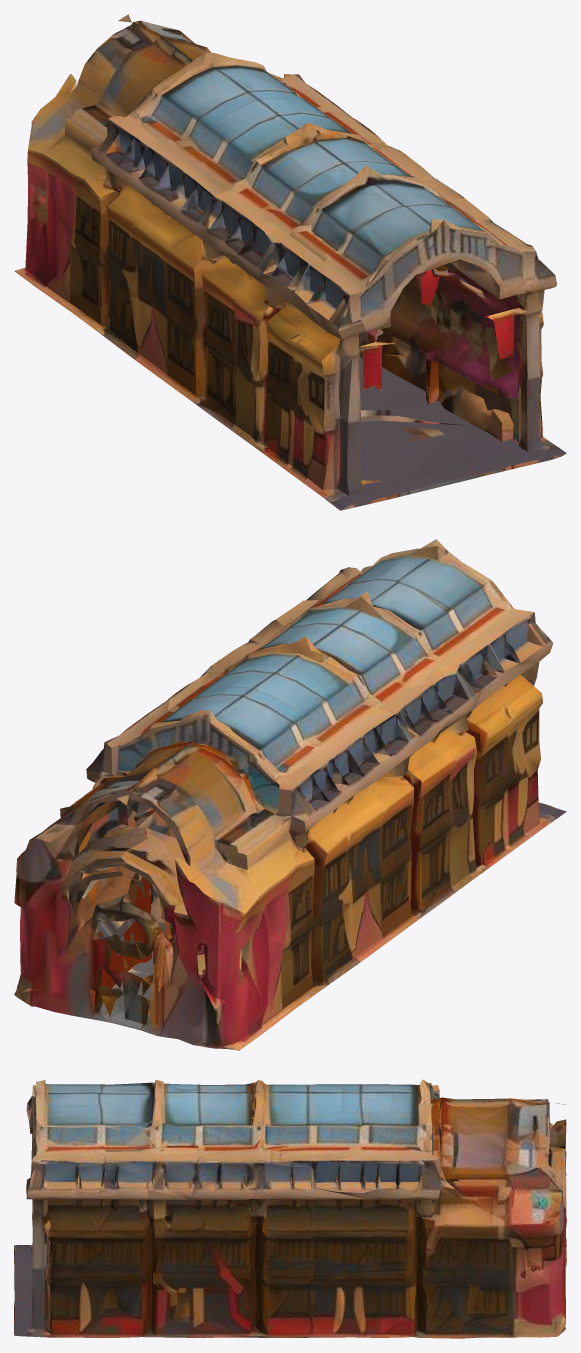
File: shinsaibashi.glb
3 renders of one model, top to bottom at view 1: azimuth 30°, elevation 25°; view 2: azimuth 150°, elevation 25°; view 3: azimuth 270°, elevation 25°, orthographic. The views are drawn at different scales.
Parts seen in each view (by area): view 1: logan-textured.obj; view 2: logan-textured.obj; view 3: logan-textured.obj.
Part boxes in pixels (bbox=[...]): logan-textured.obj: bbox=[14, 14, 566, 510]; logan-textured.obj: bbox=[14, 539, 566, 1050]; logan-textured.obj: bbox=[14, 1079, 566, 1338].
Bounding box in the file's own units: 0.3973 × 0.4273 × 1.
Materials: 1 (1 with a texture image).
